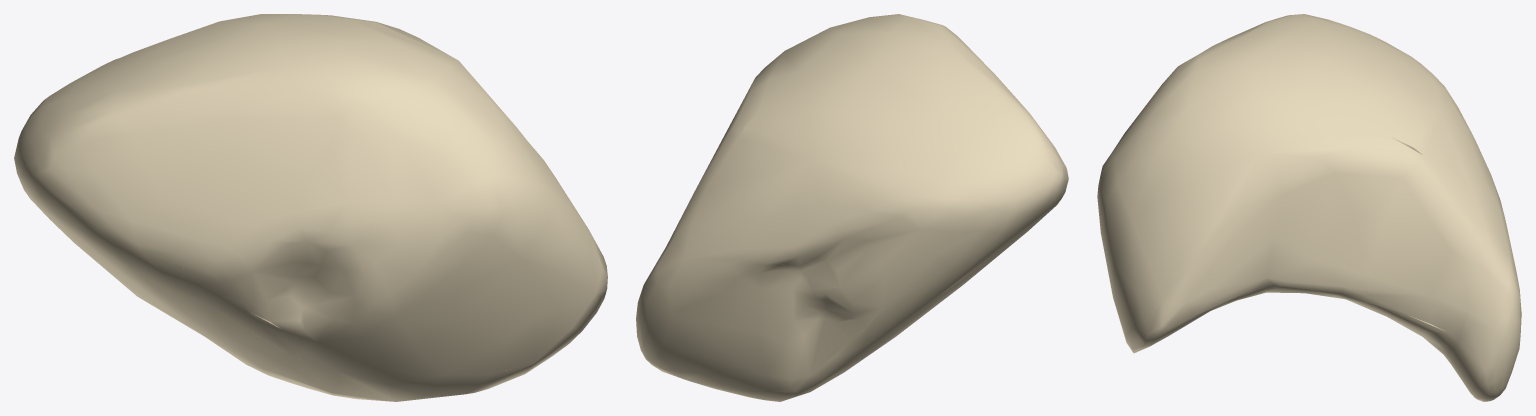
The model's file is esqueleto-lunate-bone-l.glb.
3 renders of one model, left to right at view 1: azimuth 30°, elevation 25°; view 2: azimuth 150°, elevation 25°; view 3: azimuth 270°, elevation 25°, orthographic. The views are drawn at different scales.
Visible parts, largest first — view 1: Lunate bone.l; view 2: Lunate bone.l; view 3: Lunate bone.l.
Part boxes in pixels (bbox=[...]): Lunate bone.l: bbox=[14, 14, 607, 401]; Lunate bone.l: bbox=[636, 14, 1068, 401]; Lunate bone.l: bbox=[1097, 14, 1521, 401].
Size of the model in its own units: 0.0171 by 0.0127 by 0.0166.
